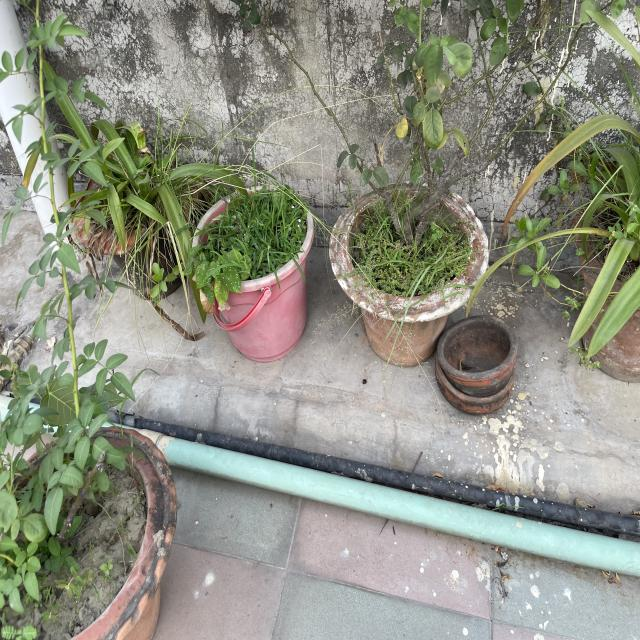Breeding Place: (2, 424, 180, 638), (330, 182, 478, 364), (195, 198, 315, 356), (574, 183, 640, 377), (422, 328, 514, 409)
